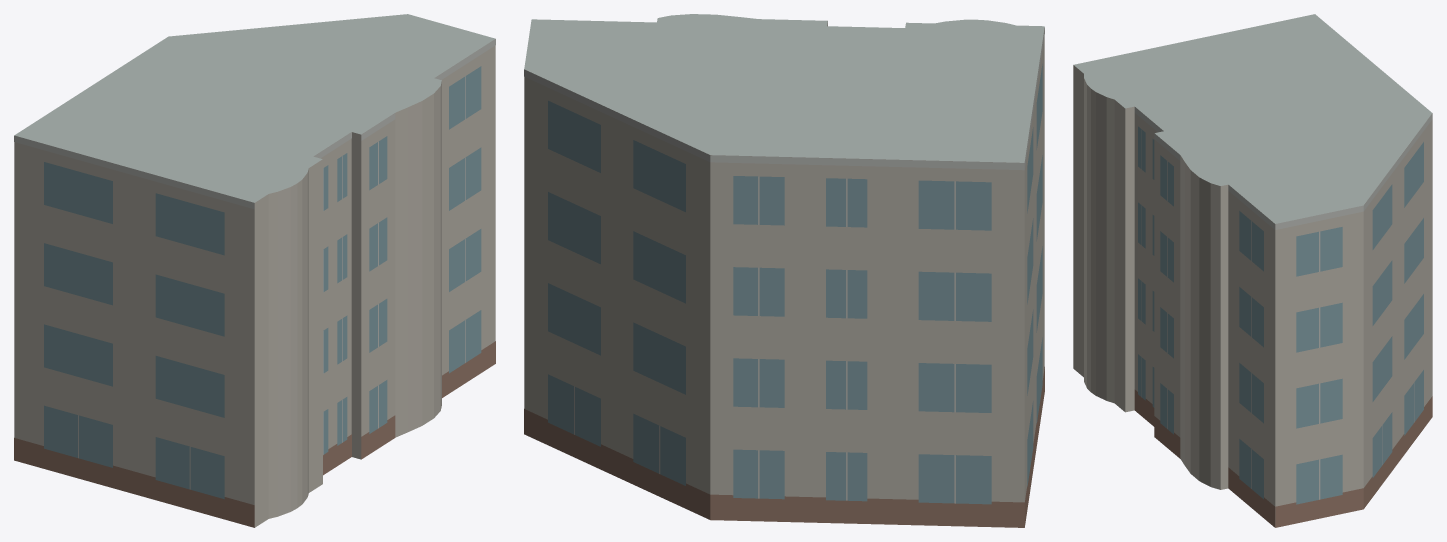
File: survey-upis-32746791.glb
The picture shows the model from 3 angles, left to right: view 1: azimuth 30°, elevation 25°; view 2: azimuth 150°, elevation 25°; view 3: azimuth 270°, elevation 25°; orthographic projection. The views are drawn at different scales.
Visible parts, largest first — view 1: survey-upis-32746791.tmp; view 2: survey-upis-32746791.tmp; view 3: survey-upis-32746791.tmp.
Part boxes in pixels (<box>): survey-upis-32746791.tmp: <box>14,14,495,527</box>; survey-upis-32746791.tmp: <box>524,14,1044,527</box>; survey-upis-32746791.tmp: <box>1073,14,1432,527</box>.
Size of the model in its own units: 18.09 by 12.2 by 13.08.
